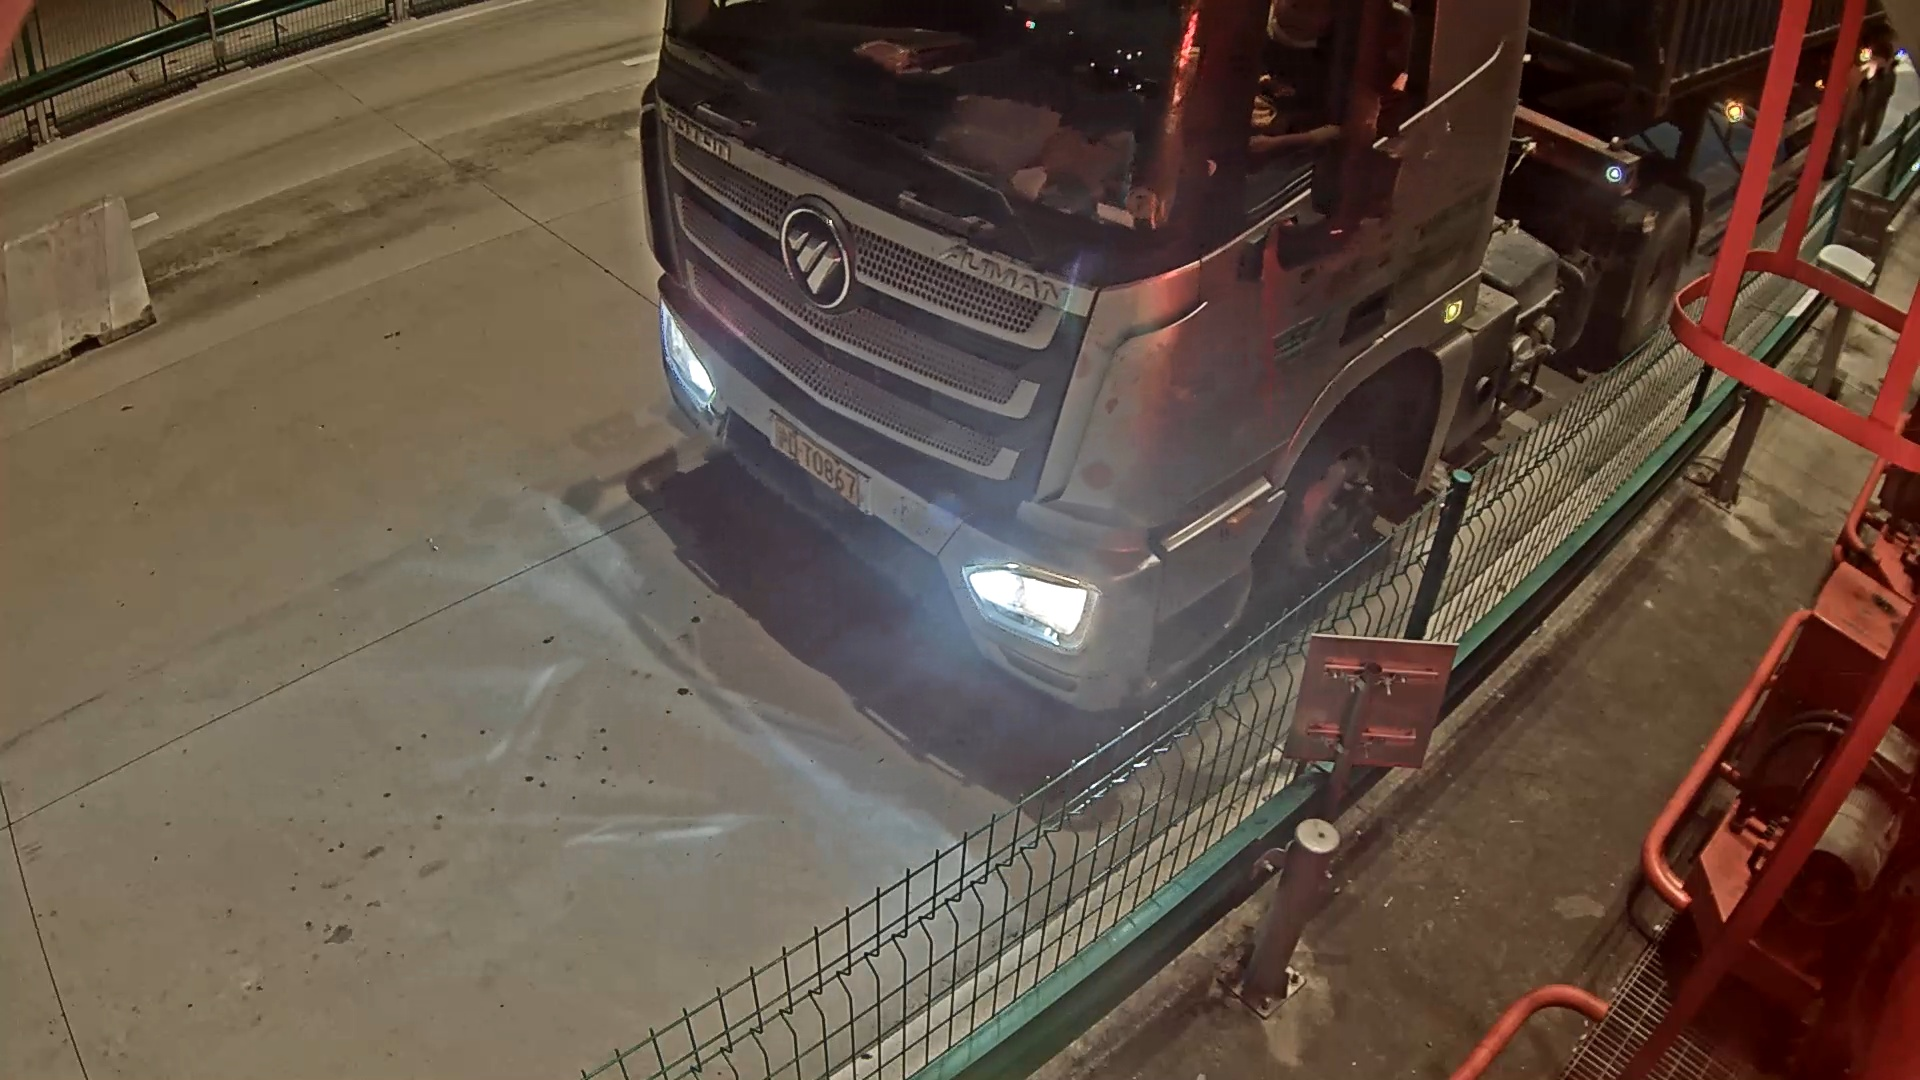head: (605, 1, 1396, 752)
plate: (767, 422, 895, 526)
